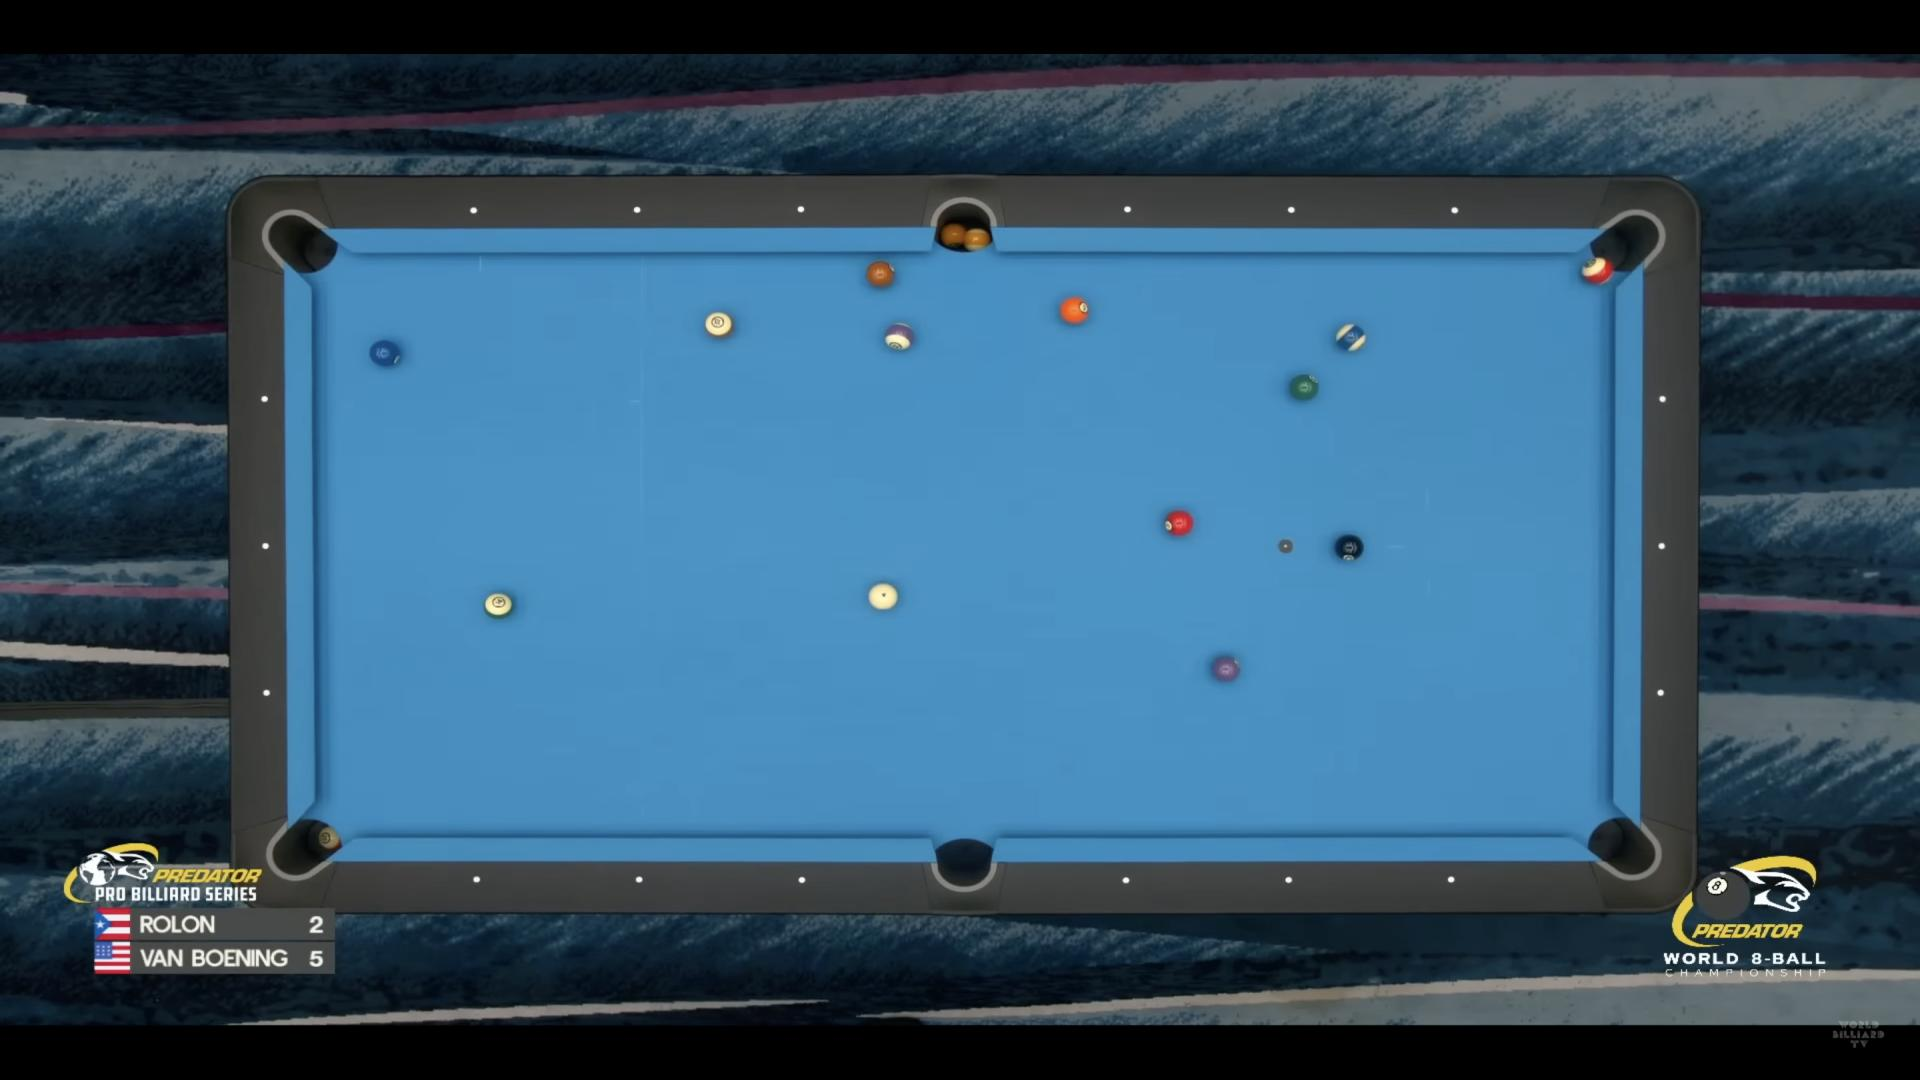Black: (1335, 534, 1364, 560)
Cue: (868, 583, 898, 611)
Dot: (258, 688, 273, 702), (258, 539, 273, 553), (257, 393, 272, 406), (1121, 203, 1134, 215), (1286, 204, 1299, 216), (1448, 206, 1461, 218), (1655, 687, 1667, 699), (1656, 541, 1668, 553), (1658, 394, 1669, 405), (795, 204, 806, 215), (632, 206, 644, 215), (468, 206, 479, 215), (471, 876, 480, 884), (634, 876, 644, 884), (798, 876, 807, 884), (1121, 877, 1130, 885), (1284, 877, 1294, 885), (1445, 874, 1455, 882)
Solid: (369, 340, 401, 367), (1290, 375, 1319, 401), (1060, 298, 1089, 324), (865, 261, 894, 287), (1212, 655, 1241, 680), (1164, 510, 1193, 535)
Striped: (1336, 323, 1367, 352), (885, 323, 914, 351), (704, 311, 735, 338), (484, 592, 513, 617)
